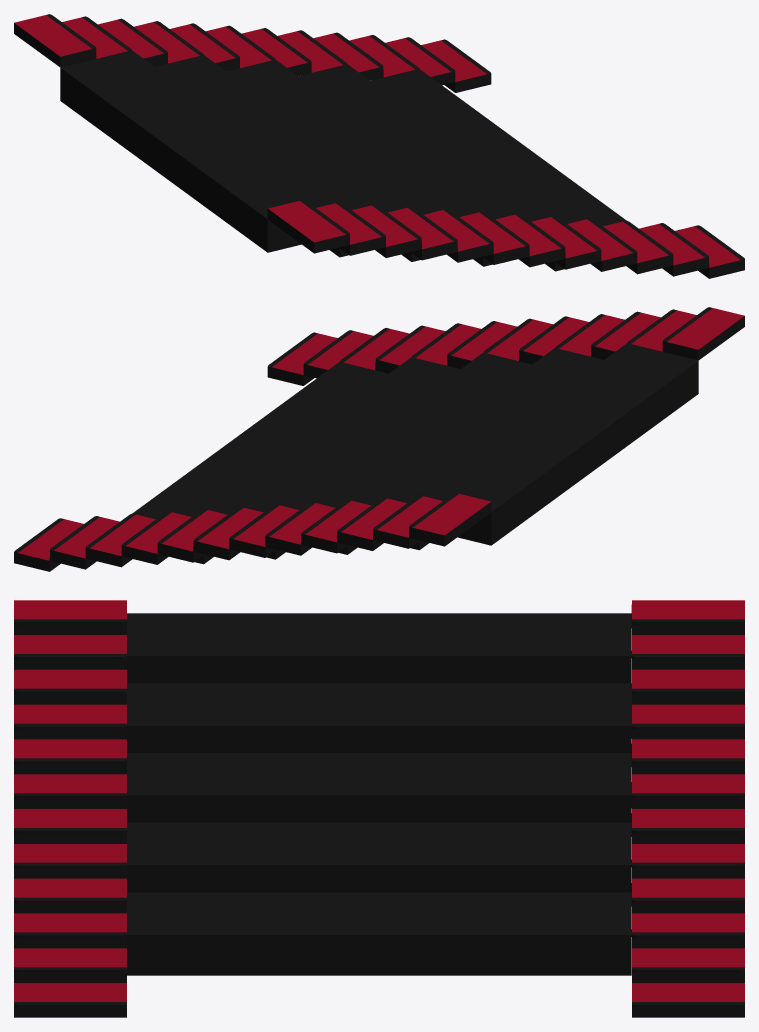
Rendered from stairs.fbx.
3 views of the same model, one above another, from view 1: azimuth 30°, elevation 25°; view 2: azimuth 150°, elevation 25°; view 3: azimuth 270°, elevation 25° (orthographic). The views are drawn at different scales.
Visible parts, largest first — view 1: Cube; view 2: Cube; view 3: Cube.
Part boxes in pixels (x1=…): Cube: x1=14, y1=14, x2=744, y2=278; Cube: x1=14, y1=307, x2=744, y2=571; Cube: x1=14, y1=600, x2=744, y2=1017.
Bounding box in the file's own units: 662 × 195 × 798.
